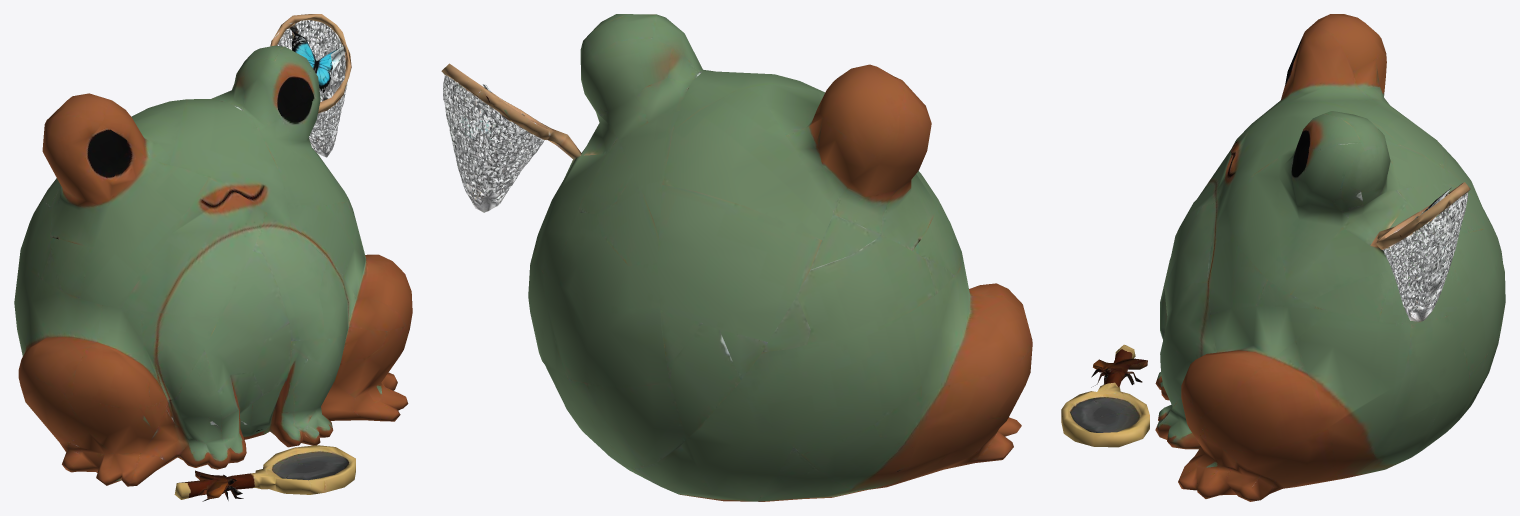
Rendered from entomologiste.glb.
3 views of the same model, side by side, from view 1: azimuth 30°, elevation 25°; view 2: azimuth 150°, elevation 25°; view 3: azimuth 270°, elevation 25° (orthographic). The views are drawn at different scales.
Visible parts, largest first — view 1: mesh_node; view 2: mesh_node; view 3: mesh_node.
Boxes of the visible parts, <box> form: mesh_node: <box>14,14,412,501</box>; mesh_node: <box>441,14,1032,501</box>; mesh_node: <box>1061,14,1505,501</box>.
Bounding box in the file's own units: 1.89 × 1.54 × 1.77.
1 material, 1 textured.
